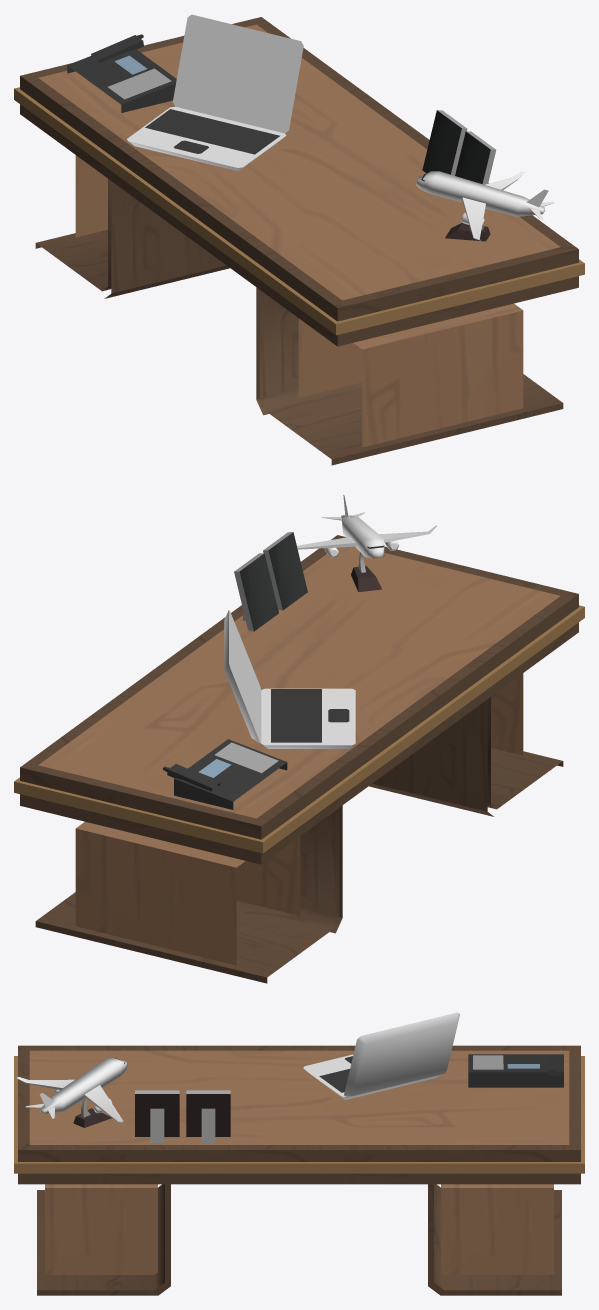
File: interior_F_005.fbx
The picture shows the model from 3 angles, top to bottom: view 1: azimuth 30°, elevation 25°; view 2: azimuth 150°, elevation 25°; view 3: azimuth 270°, elevation 25°; orthographic projection. The views are drawn at different scales.
Visible parts, largest first — view 1: interior_F_005; view 2: interior_F_005; view 3: interior_F_005.
Part boxes in pixels (x1=…): interior_F_005: x1=14, y1=14, x2=584, y2=465; interior_F_005: x1=14, y1=495, x2=584, y2=983; interior_F_005: x1=14, y1=1012, x2=584, y2=1295.
Bounding box in the file's own units: 110 × 107 × 246.
